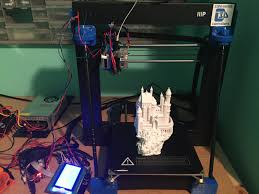Fail: (130, 77, 180, 160)
